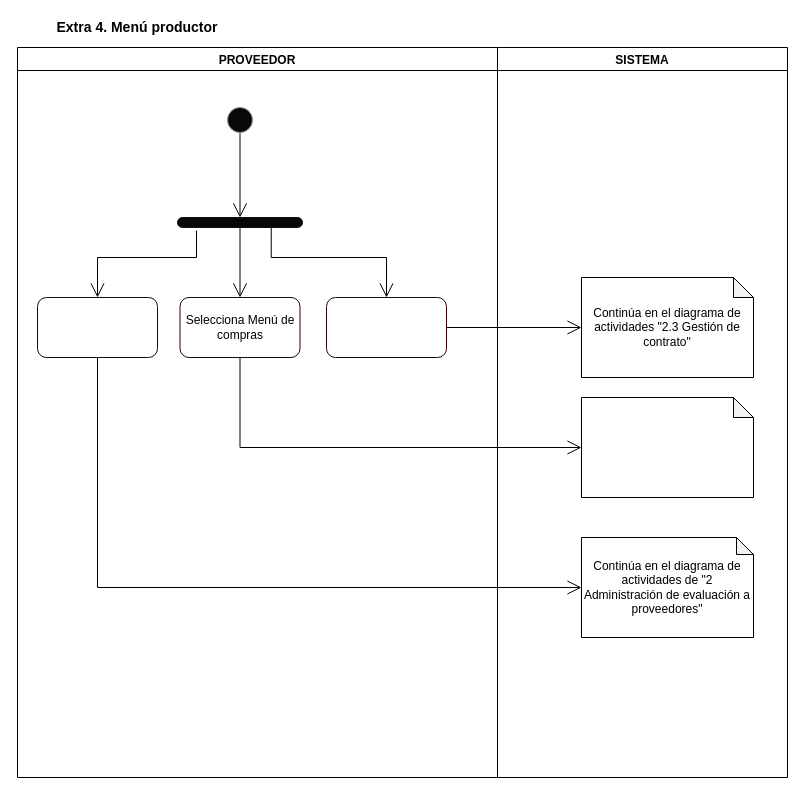
Image size: 805x795. Some labels were removed from this diagram. Here are the shapes that lost their labels. From the top down, the centre of each, then its label:
(x=97, y=327): Selecciona Menú de evaluaciones
(x=386, y=327): Selecciona Lista de contratos
(x=667, y=447): Continúa en el diagrama de actividades "3. Compras a proveedores"
